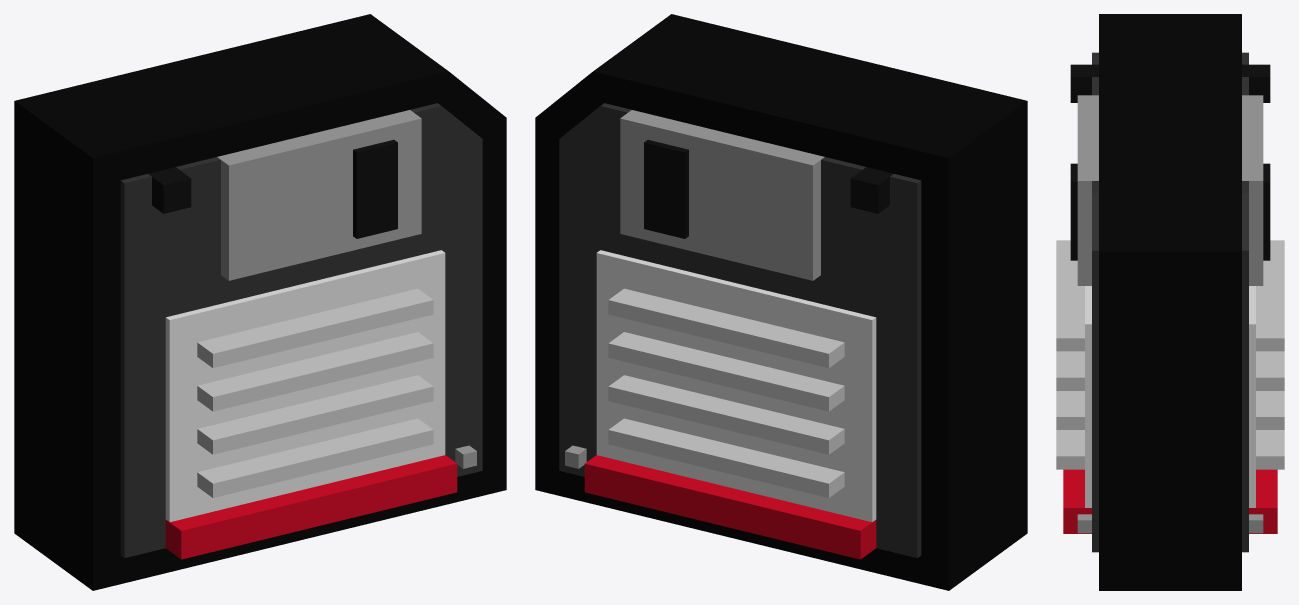
The picture shows the model from 3 angles, left to right: view 1: azimuth 30°, elevation 25°; view 2: azimuth 150°, elevation 25°; view 3: azimuth 270°, elevation 25°; orthographic projection. The views are drawn at different scales.
Parts seen in each view (by area): view 1: U+1F4BE_layer00_obj00, U+1F4BE_layer01_obj00, U+1F4BE_layer02_obj00, U+1F4BE_layer06_obj00, U+1F4BE_layer03_obj00, U+1F4BE_layer05_obj00, U+1F4BE_layer04_obj00; view 2: U+1F4BE_layer00_obj00, U+1F4BE_layer01_obj00, U+1F4BE_layer02_obj00, U+1F4BE_layer06_obj00, U+1F4BE_layer03_obj00, U+1F4BE_layer05_obj00, U+1F4BE_layer04_obj00; view 3: U+1F4BE_layer00_obj00, U+1F4BE_layer06_obj00, U+1F4BE_layer03_obj00, U+1F4BE_layer01_obj00, U+1F4BE_layer04_obj00, U+1F4BE_layer02_obj00, U+1F4BE_layer05_obj00.
Part boxes in pixels (left/top/right/bottom): U+1F4BE_layer00_obj00: left=14, top=14, right=506, bottom=590; U+1F4BE_layer01_obj00: left=120, top=103, right=482, bottom=557; U+1F4BE_layer02_obj00: left=165, top=250, right=445, bottom=522; U+1F4BE_layer06_obj00: left=197, top=288, right=433, bottom=497; U+1F4BE_layer03_obj00: left=217, top=110, right=476, bottom=468; U+1F4BE_layer05_obj00: left=165, top=455, right=457, bottom=559; U+1F4BE_layer04_obj00: left=148, top=139, right=397, bottom=238; U+1F4BE_layer00_obj00: left=535, top=14, right=1027, bottom=590; U+1F4BE_layer01_obj00: left=559, top=103, right=921, bottom=557; U+1F4BE_layer02_obj00: left=596, top=250, right=876, bottom=522; U+1F4BE_layer06_obj00: left=608, top=288, right=844, bottom=497; U+1F4BE_layer03_obj00: left=565, top=110, right=824, bottom=468; U+1F4BE_layer05_obj00: left=584, top=455, right=876, bottom=559; U+1F4BE_layer04_obj00: left=644, top=139, right=893, bottom=238; U+1F4BE_layer00_obj00: left=1099, top=14, right=1241, bottom=590; U+1F4BE_layer06_obj00: left=1056, top=240, right=1284, bottom=469; U+1F4BE_layer03_obj00: left=1077, top=95, right=1263, bottom=533; U+1F4BE_layer01_obj00: left=1092, top=52, right=1248, bottom=552; U+1F4BE_layer04_obj00: left=1070, top=64, right=1270, bottom=260; U+1F4BE_layer02_obj00: left=1085, top=286, right=1255, bottom=507; U+1F4BE_layer05_obj00: left=1063, top=469, right=1277, bottom=533.
Bounding box in the file's own units: 0.6085 × 0.6084 × 0.32.
